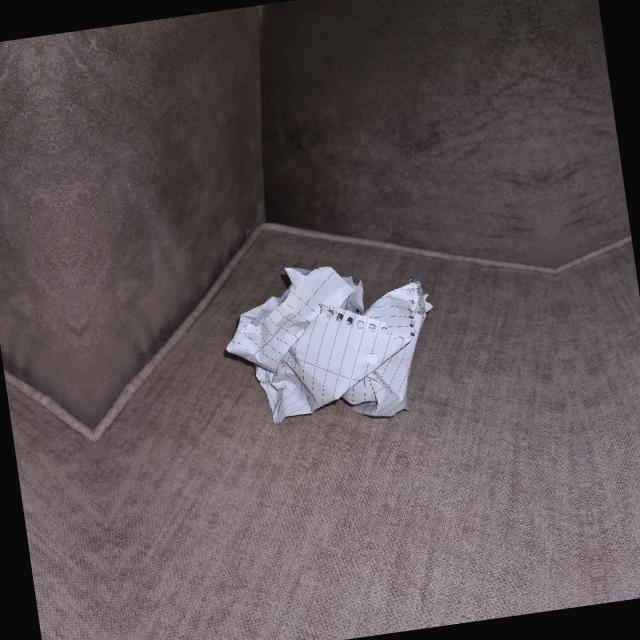paper: (215, 247, 440, 435)
